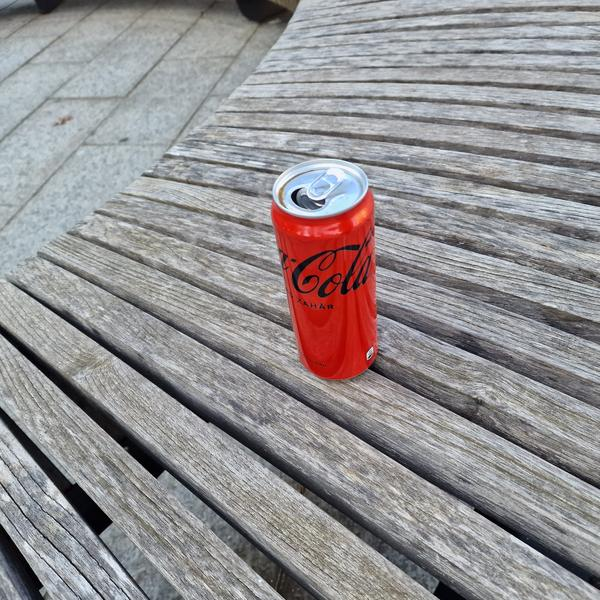can: (259, 148, 409, 389)
